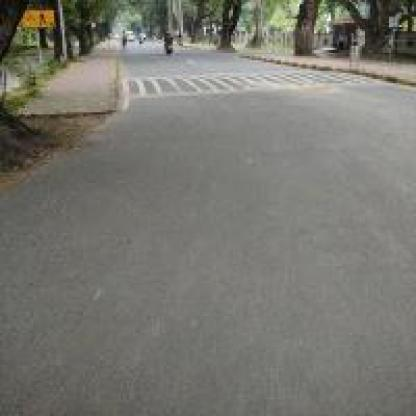Speed Bump: (122, 60, 378, 104)
